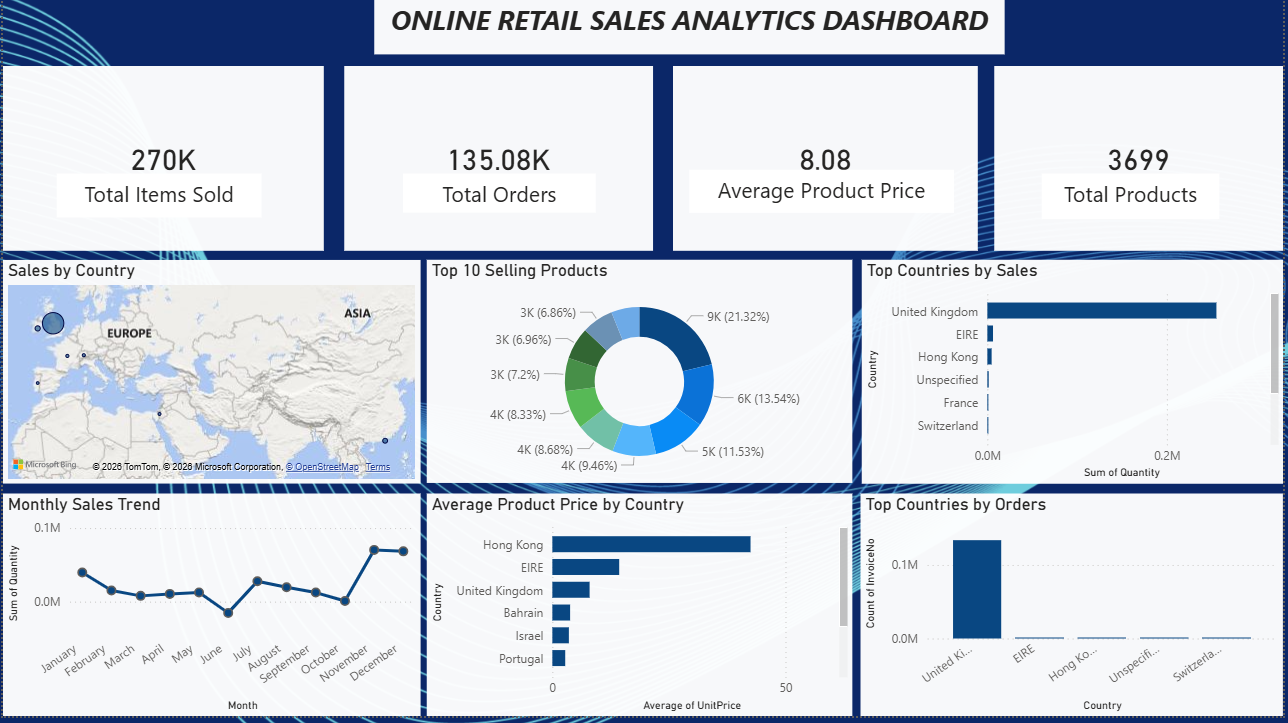

The page's visual inventory and layout, read from the dashboard file:
{"tool":"powerbi","page":{"name":"dashboard","canvas":[1280,720],"ordinal":0},"visuals":[{"type":"textbox","box":[370.7,0,630.6,58.4],"z":0},{"type":"card","title":"Total Items Sold","fields":{"Values":["Sum(online_retail.Quantity)"]},"box":[0,70.4,321.1,184.5],"z":1000},{"type":"card","fields":{"Values":["CountNonNull(online_retail.InvoiceNo)"]},"box":[340.8,70.4,308.5,184.5],"z":2000},{"type":"card","fields":{"Values":["Avg(online_retail.UnitPrice)"]},"box":[669.9,70.3,305.2,184.8],"z":3000},{"type":"card","fields":{"Values":["Count(online_retail.StockCode)"]},"box":[991.6,70.2,288.7,184.8],"z":4000},{"type":"map","title":"Sales by Country","fields":{"Category":["online_retail.Country"],"Size":["Sum(online_retail.Quantity)"]},"box":[0,263.4,417.2,224.1],"z":5000},{"type":"donutChart","title":"Top 10 Selling Products","fields":{"Category":["online_retail.Description"],"Y":["Sum(online_retail.Quantity)"]},"box":[424.4,263.4,425.6,222.9],"z":6000},{"type":"clusteredBarChart","title":"Top Countries by Sales","fields":{"Category":["online_retail.Country"],"Y":["Sum(online_retail.Quantity)"]},"box":[858.3,263.4,422,224.1],"z":7000},{"type":"lineChart","title":"Monthly Sales Trend","fields":{"Category":["online_retail.InvoiceDate.Variation.Date Hierarchy.Month"],"Y":["Sum(online_retail.Quantity)"]},"box":[0,497.1,417.2,222.9],"z":8000},{"type":"textbox","box":[53.6,177.6,205,44.1],"z":9000},{"type":"textbox","box":[400,177.5,193,39.4],"z":10000},{"type":"textbox","box":[686.6,174,264.6,42.9],"z":11000},{"type":"clusteredBarChart","title":"Average Product Price by Country","fields":{"Category":["online_retail.Country"],"Y":["Avg(online_retail.UnitPrice)"]},"box":[424.4,497.1,425.6,222.9],"z":13000},{"type":"clusteredColumnChart","title":"Top Countries by Orders","fields":{"Category":["online_retail.Country"],"Y":["CountNonNull(online_retail.InvoiceNo)"]},"box":[858,497,422,223],"z":14000},{"type":"textbox","box":[1038.3,177.6,177.6,45.3],"z":14001}]}

Visuals, with their boxes in screenshot pixels (x1, y1, x2, y2), scaled from the page's 1280x720 canvas onto the 1288x723 screenshot:
textbox: [x1=373, y1=0, x2=1008, y2=59]
"Total Items Sold" card: [x1=0, y1=71, x2=323, y2=256]
card - CountNonNull(online_retail.InvoiceNo): [x1=343, y1=71, x2=653, y2=256]
card - Avg(online_retail.UnitPrice): [x1=674, y1=71, x2=981, y2=256]
card - Count(online_retail.StockCode): [x1=998, y1=70, x2=1287, y2=256]
"Sales by Country" map: [x1=0, y1=264, x2=420, y2=490]
"Top 10 Selling Products" donutChart: [x1=427, y1=264, x2=855, y2=488]
"Top Countries by Sales" clusteredBarChart: [x1=864, y1=264, x2=1287, y2=490]
"Monthly Sales Trend" lineChart: [x1=0, y1=499, x2=420, y2=722]
textbox: [x1=54, y1=178, x2=260, y2=223]
textbox: [x1=403, y1=178, x2=597, y2=218]
textbox: [x1=691, y1=175, x2=957, y2=218]
"Average Product Price by Country" clusteredBarChart: [x1=427, y1=499, x2=855, y2=722]
"Top Countries by Orders" clusteredColumnChart: [x1=863, y1=499, x2=1287, y2=722]
textbox: [x1=1045, y1=178, x2=1223, y2=224]
